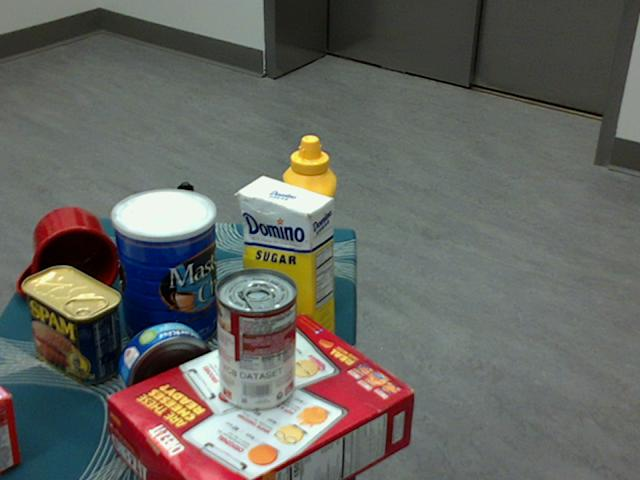cracker_box: (108, 315, 414, 479)
gelatin_box: (0, 383, 21, 469)
large_marker: (177, 181, 197, 277)
master_chef_can: (110, 189, 218, 354)
mug: (19, 206, 119, 303)
mustard_bottle: (280, 134, 334, 312)
potted_meat_can: (21, 264, 122, 383)
sugar_box: (238, 175, 334, 363)
tomato_soup_can: (213, 269, 296, 412)
tuna_fish_can: (118, 322, 216, 418)
